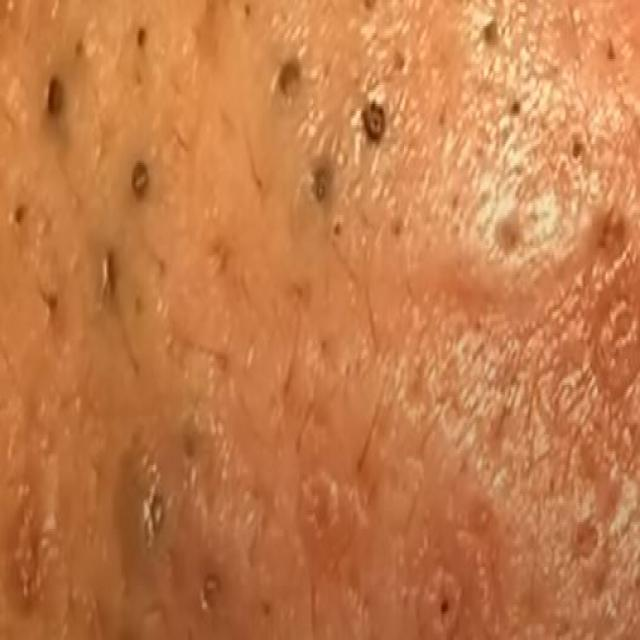dark spot: (271, 42, 310, 110), (358, 87, 394, 160), (306, 155, 339, 223), (41, 65, 70, 124), (128, 153, 158, 202)
